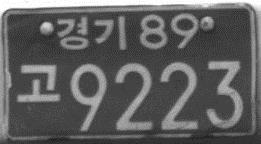2: (114, 60, 154, 132), (159, 61, 199, 133)
3: (204, 59, 246, 131)
8: (138, 12, 168, 50)
9: (69, 62, 107, 135), (169, 11, 200, 51)
경기_O: (55, 13, 128, 51)
고: (15, 60, 64, 105)
